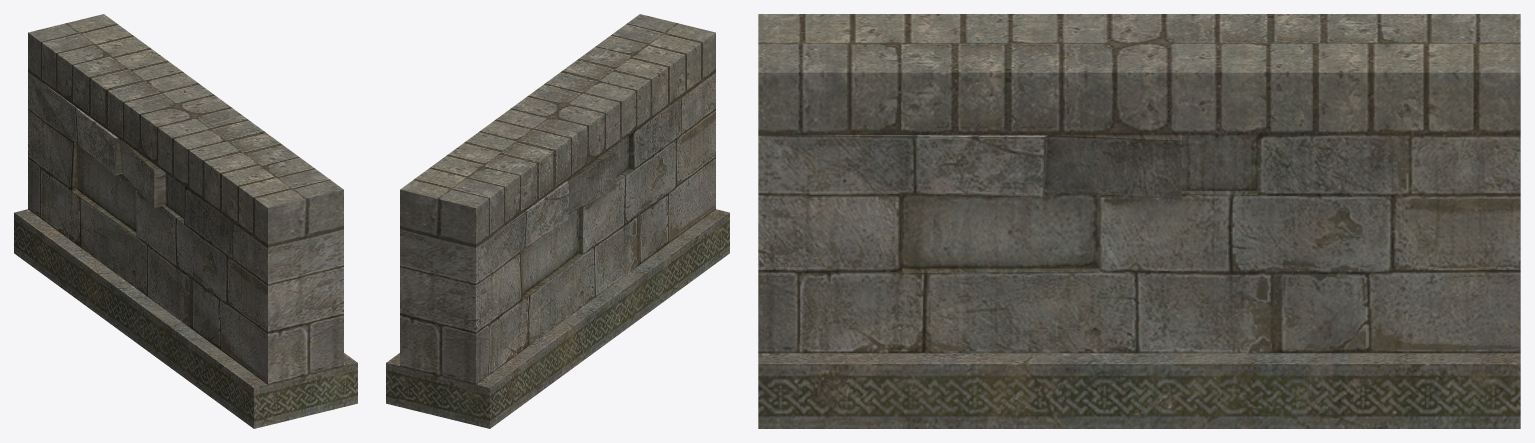
Rendered from bg_lut_lutomb_wall06_sm_old.FBX.
3 renders of one model, left to right at view 1: azimuth 30°, elevation 25°; view 2: azimuth 150°, elevation 25°; view 3: azimuth 270°, elevation 25°, orthographic. The views are drawn at different scales.
Visible parts, largest first — view 1: bg_lut_lutomb_wall06_sm_old; view 2: bg_lut_lutomb_wall06_sm_old; view 3: bg_lut_lutomb_wall06_sm_old.
Part boxes in pixels (left/top/right/bottom): bg_lut_lutomb_wall06_sm_old: left=14, top=14, right=357, bottom=428; bg_lut_lutomb_wall06_sm_old: left=386, top=14, right=729, bottom=428; bg_lut_lutomb_wall06_sm_old: left=758, top=14, right=1520, bottom=428.
Size of the model in its own units: 64 by 128 by 256.
